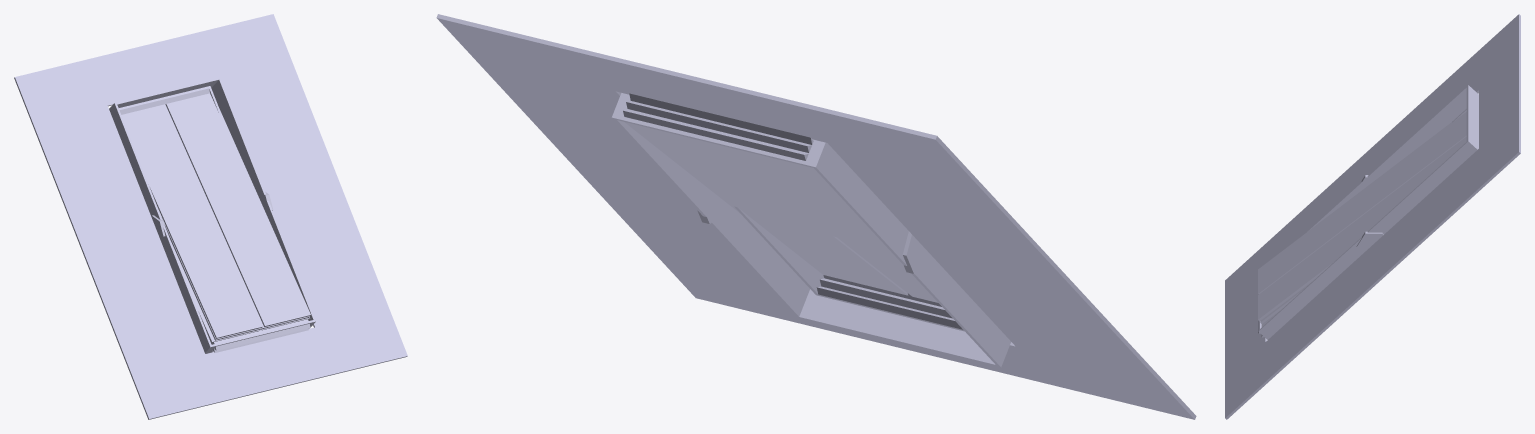
File: RotateDock_040deg.glb
The picture shows the model from 3 angles, left to right: view 1: azimuth 30°, elevation 25°; view 2: azimuth 150°, elevation 25°; view 3: azimuth 270°, elevation 25°; orthographic projection. The views are drawn at different scales.
Visible parts, largest first — view 1: copy_Body021, copy_LinkGroup004, copy_Body, copy_Body023, copy_Body022, copy_LinkGroup003; view 2: copy_Body021, copy_Body, copy_LinkGroup003, copy_Body022, copy_Body023, copy_Body002; view 3: copy_Body021, copy_LinkGroup004, copy_Body, copy_Body001.
Part boxes in pixels (x1=…): copy_Body021: x1=14, y1=14, x2=407, y2=419; copy_LinkGroup004: x1=121, y1=93, x2=310, y2=340; copy_Body: x1=109, y1=77, x2=316, y2=353; copy_Body023: x1=208, y1=319, x2=310, y2=352; copy_Body022: x1=119, y1=86, x2=221, y2=115; copy_LinkGroup003: x1=172, y1=244, x2=309, y2=342; copy_Body021: x1=436, y1=14, x2=1196, y2=419; copy_Body: x1=612, y1=93, x2=1010, y2=367; copy_LinkGroup003: x1=624, y1=122, x2=937, y2=302; copy_Body022: x1=623, y1=93, x2=813, y2=160; copy_Body023: x1=734, y1=206, x2=964, y2=331; copy_Body002: x1=902, y1=231, x2=930, y2=273; copy_Body021: x1=1225, y1=14, x2=1520, y2=419; copy_LinkGroup004: x1=1258, y1=112, x2=1466, y2=323; copy_Body: x1=1258, y1=85, x2=1478, y2=339; copy_Body001: x1=1356, y1=231, x2=1383, y2=254.
Size of the model in its own units: 1.68 by 1.52 by 1.52.
